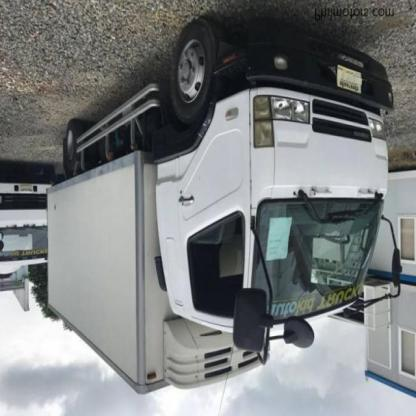truck: (48, 24, 402, 397)
